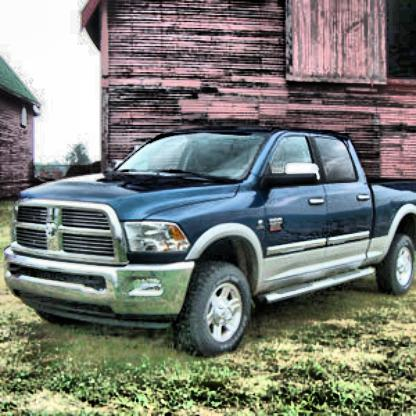Dodge Ram Pickup 3500 Crew Cab 2010: (6, 124, 416, 361)
